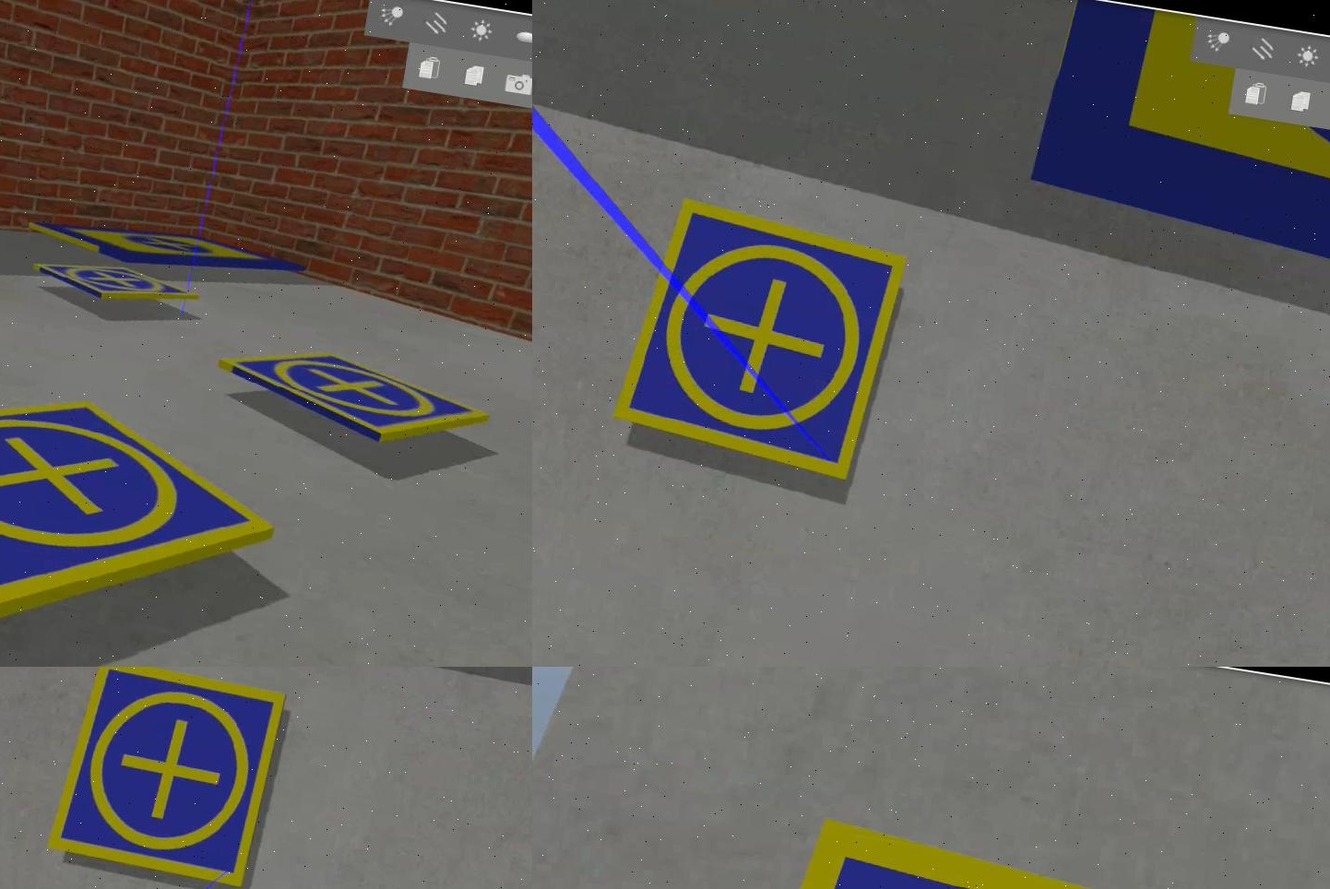large_base: (1017, 1, 1328, 325), (18, 205, 309, 295)
small_base: (604, 193, 908, 483), (0, 367, 285, 668), (599, 798, 1328, 889), (45, 668, 288, 889), (207, 336, 488, 458), (24, 247, 203, 323)
